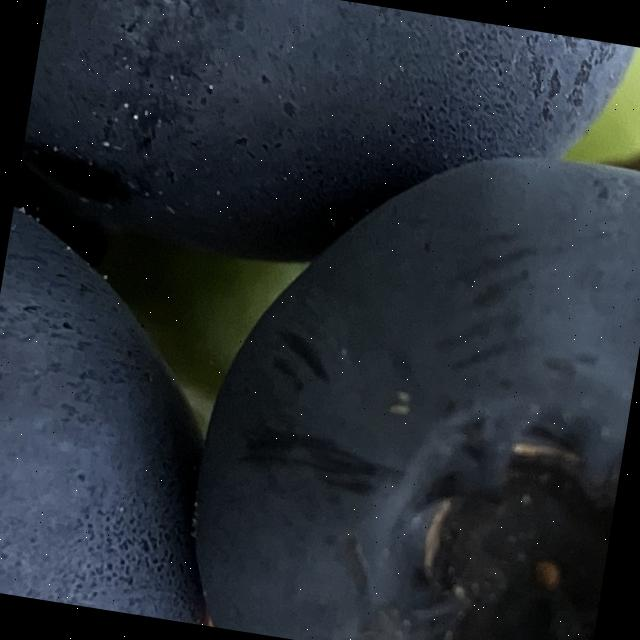Blueberries: (171, 109, 640, 640), (10, 0, 640, 329), (0, 175, 274, 626)
